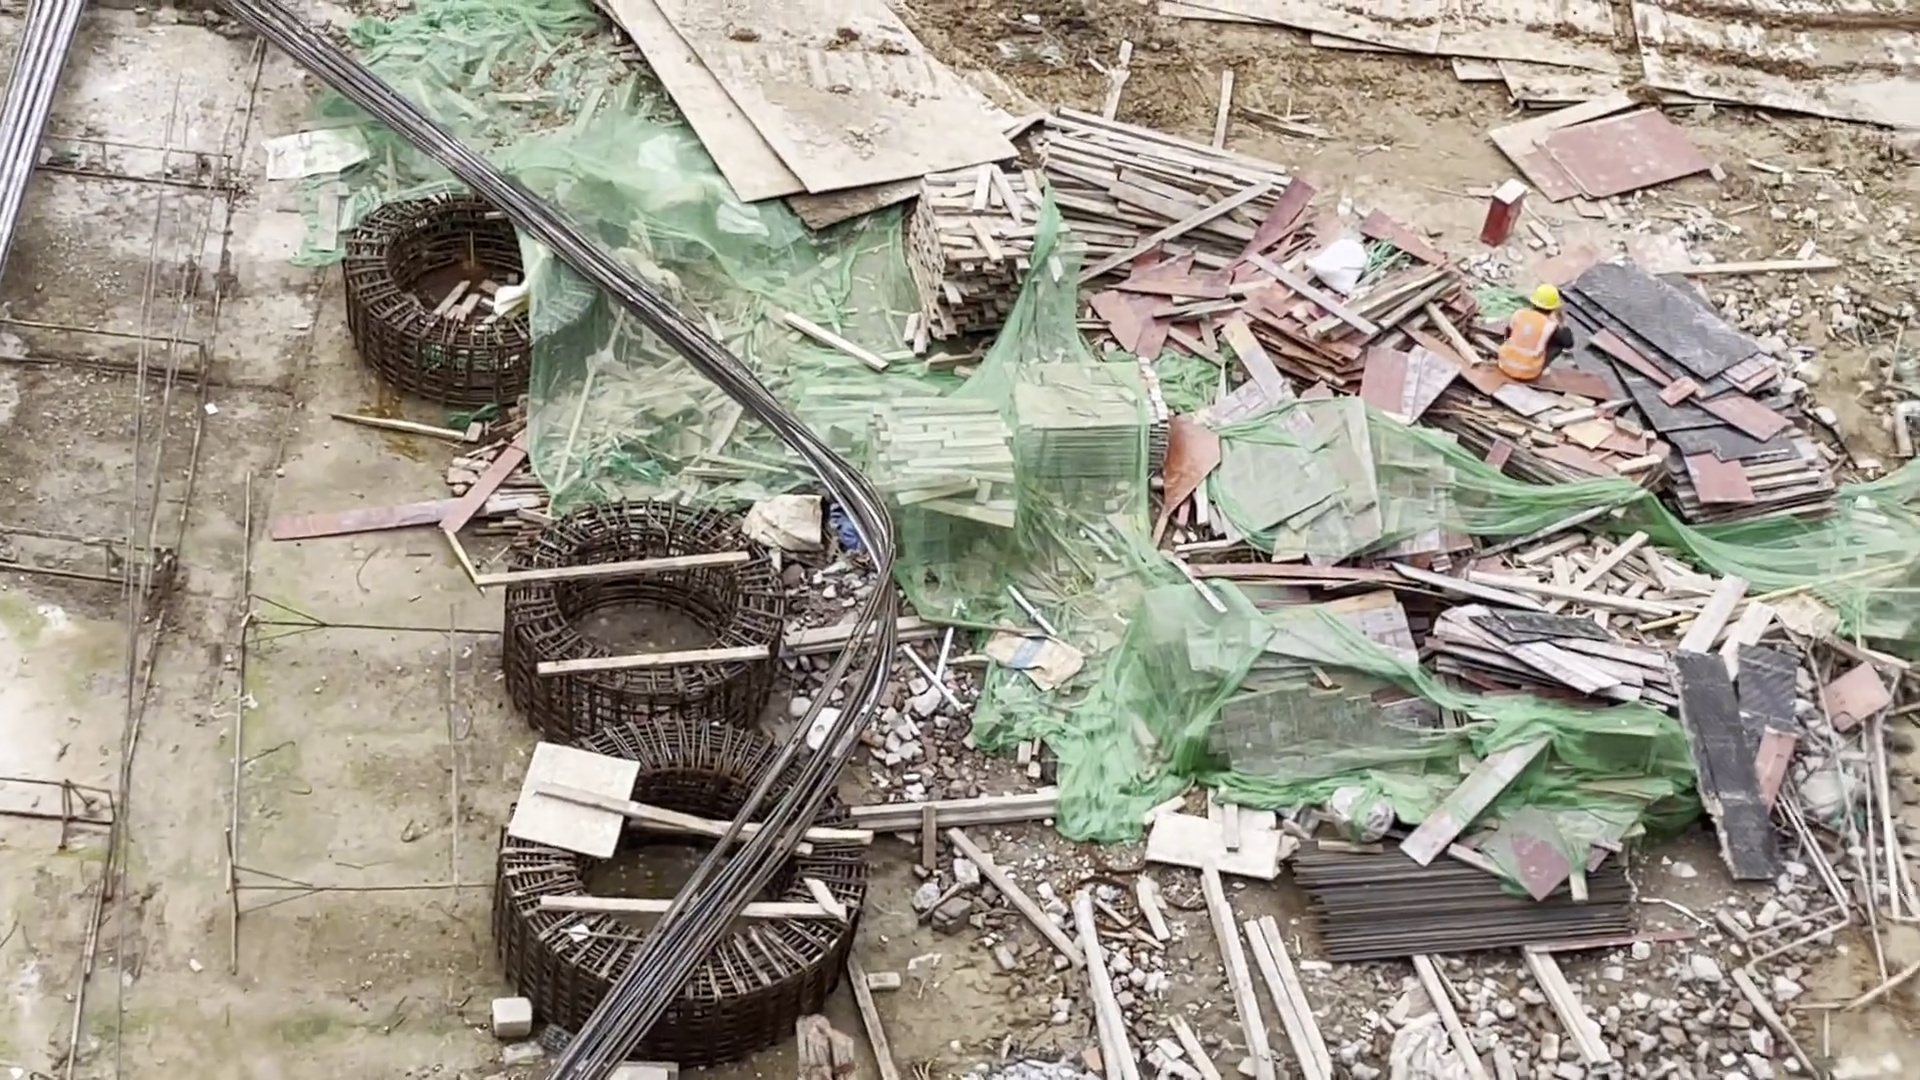helmet: (1530, 283, 1563, 313)
person: (1499, 274, 1573, 395)
vest: (1500, 309, 1549, 381)
wood: (906, 102, 1267, 376)
